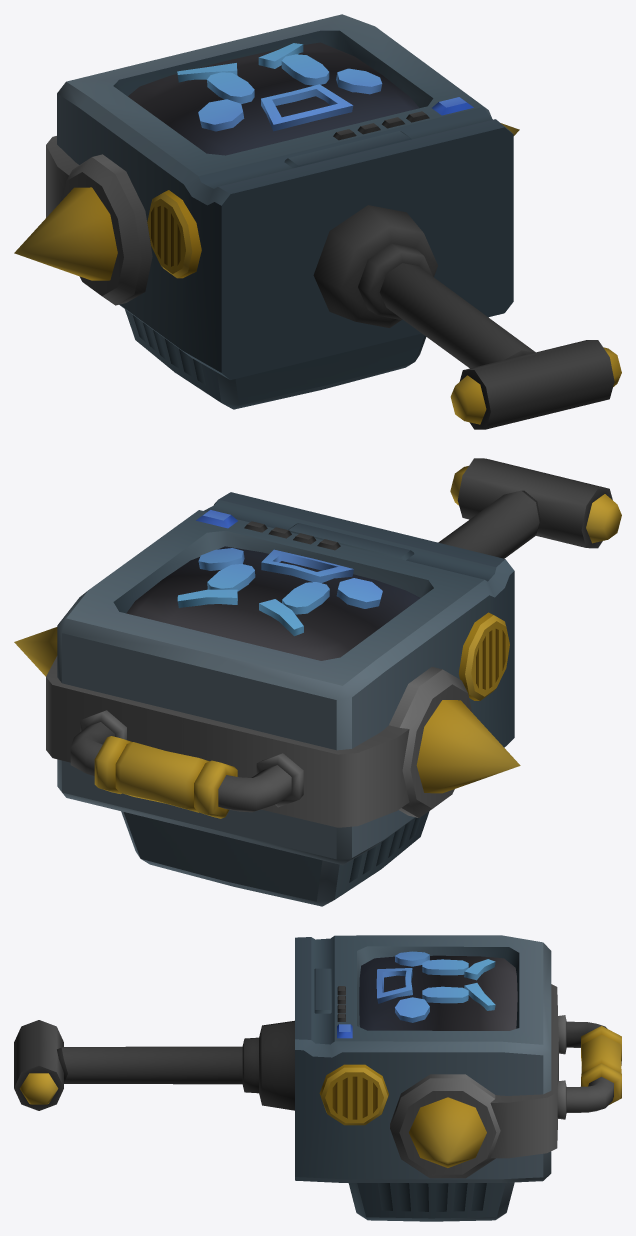
Rendered from Melee_TvTakedown.fbx.
3 renders of one model, top to bottom at view 1: azimuth 30°, elevation 25°; view 2: azimuth 150°, elevation 25°; view 3: azimuth 270°, elevation 25°, orthographic. The views are drawn at different scales.
Visible parts, largest first — view 1: Melee_TvTakedown; view 2: Melee_TvTakedown; view 3: Melee_TvTakedown.
Boxes of the visible parts, x1,y1,x2,y2 form: Melee_TvTakedown: [14, 14, 621, 429]; Melee_TvTakedown: [14, 458, 621, 906]; Melee_TvTakedown: [14, 935, 621, 1221].
Bounding box in the file's own units: 0.86 × 0.4492 × 1.18.
